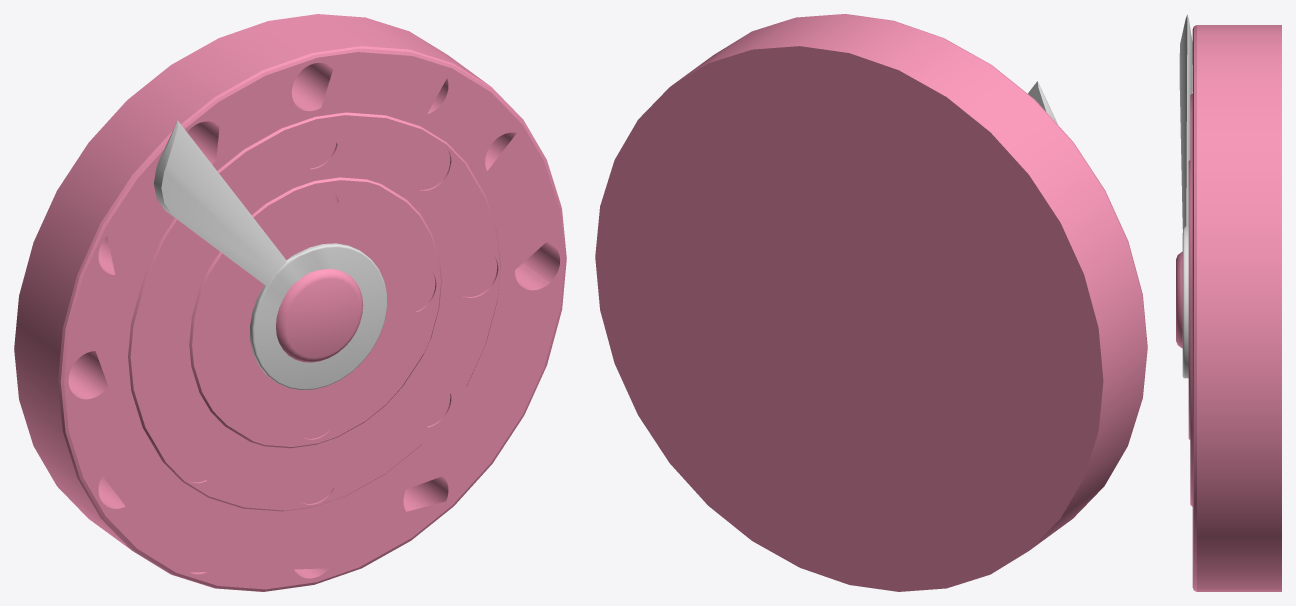
The model's file is mehmet_semerci (2).fbx.
The picture shows the model from 3 angles, left to right: view 1: azimuth 30°, elevation 25°; view 2: azimuth 150°, elevation 25°; view 3: azimuth 270°, elevation 25°; orthographic projection. The views are drawn at different scales.
Parts seen in each view (by area): view 1: çember4, çember3, çember2, bıçak, bıçak.001, çember1; view 2: çember4; view 3: çember4, bıçak.001, çember3, bıçak, çember2, çember1.
Part boxes in pixels (<box>): çember4: <box>14,14,566,591</box>; çember3: <box>128,112,500,511</box>; çember2: <box>189,177,441,448</box>; bıçak: <box>250,243,386,390</box>; bıçak.001: <box>153,120,286,286</box>; çember1: <box>276,269,363,362</box>; çember4: <box>595,14,1147,591</box>; çember4: <box>1192,25,1281,591</box>; bıçak.001: <box>1179,14,1192,228</box>; çember3: <box>1190,93,1192,506</box>; bıçak: <box>1182,226,1188,378</box>; çember2: <box>1188,160,1190,439</box>; çember1: <box>1176,251,1182,348</box>.
Size of the model in its own units: 58.74 by 58.74 by 10.94.
